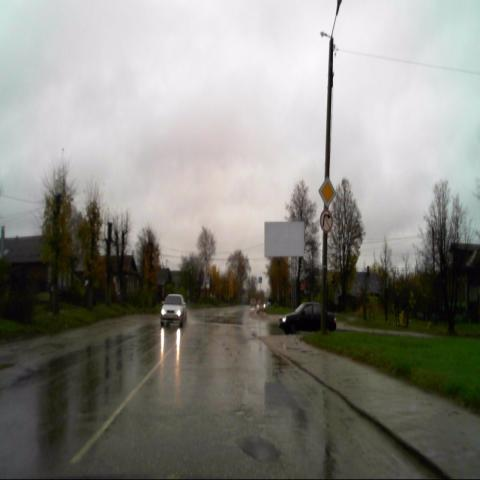3_18: (320, 209, 332, 232)
